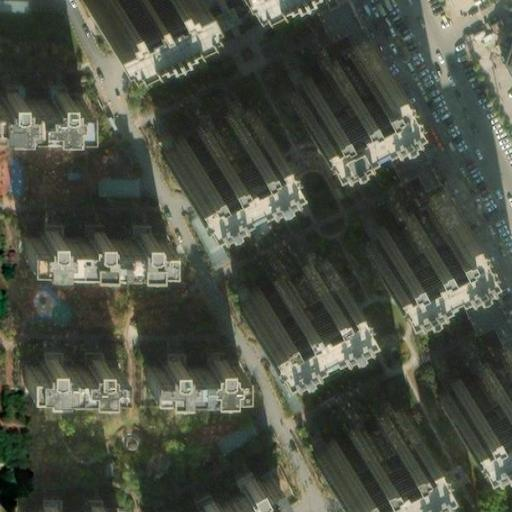building: (225, 245, 328, 322), (352, 176, 447, 259), (275, 26, 370, 109), (301, 396, 403, 473), (149, 94, 251, 171), (427, 328, 512, 411), (15, 221, 159, 259), (179, 469, 272, 512), (131, 343, 228, 379), (10, 342, 107, 378), (0, 78, 76, 120), (13, 492, 112, 512)
